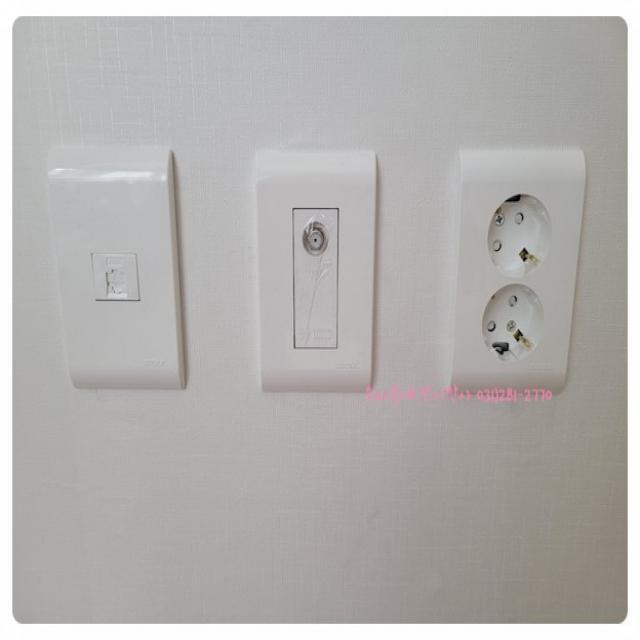typeb: (438, 128, 600, 432)
